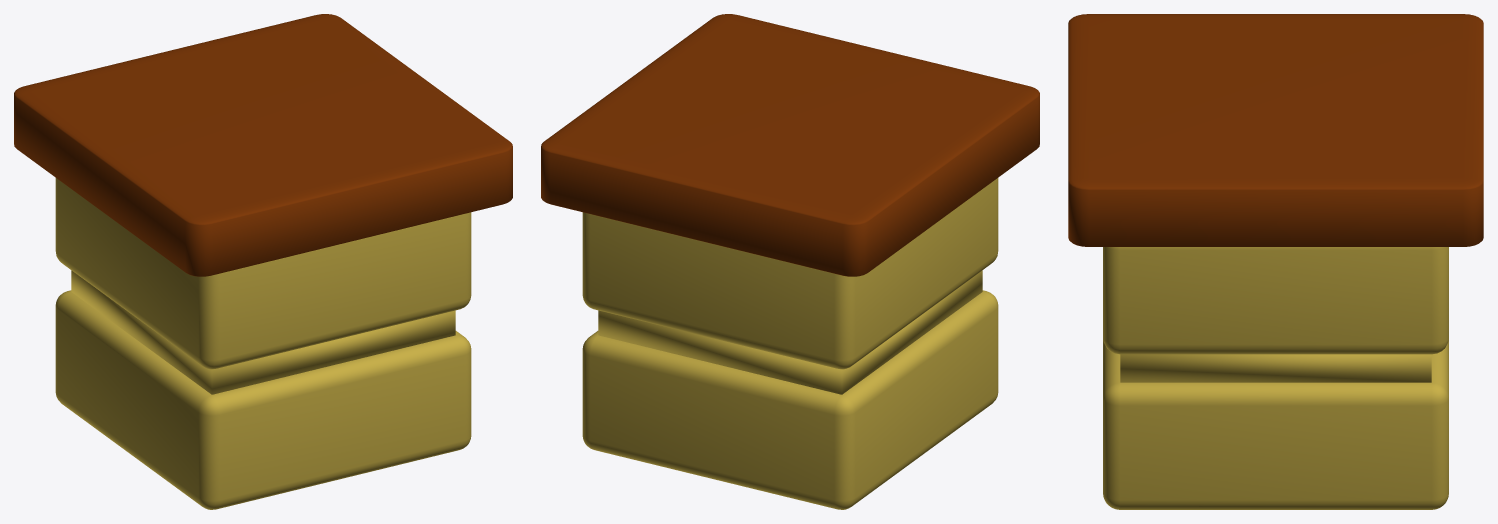
File: Hive.glb
3 views of the same model, side by side, from view 1: azimuth 30°, elevation 25°; view 2: azimuth 150°, elevation 25°; view 3: azimuth 270°, elevation 25° (orthographic). The views are drawn at different scales.
Visible parts, largest first — view 1: Cube.003, Cube; view 2: Cube.003, Cube; view 3: Cube, Cube.003.
Part boxes in pixels (x1,y1,x2,y2): Cube.003: [55, 178, 471, 509]; Cube: [14, 14, 512, 276]; Cube.003: [582, 178, 998, 509]; Cube: [541, 14, 1039, 276]; Cube: [1068, 14, 1483, 246]; Cube.003: [1103, 247, 1448, 509].
Size of the model in its own units: 48 by 43.78 by 48.
